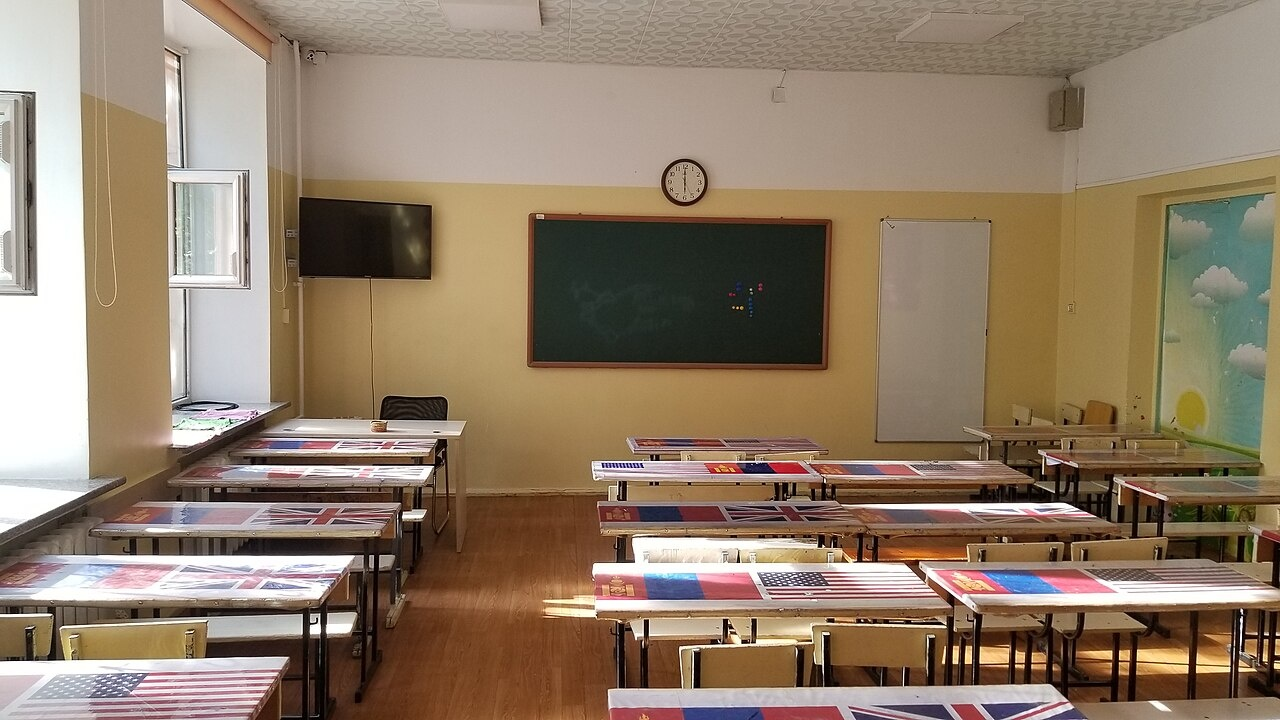seat: (88, 500, 402, 693), (178, 458, 438, 573), (1049, 478, 1148, 703), (1, 655, 291, 720), (958, 541, 1053, 685), (1072, 534, 1167, 635), (862, 682, 1087, 720), (638, 682, 862, 720), (810, 623, 936, 688), (59, 619, 209, 660), (630, 538, 853, 565), (680, 644, 803, 688), (1150, 447, 1261, 481), (1040, 447, 1150, 481), (1064, 423, 1165, 456), (964, 423, 1064, 456), (1071, 536, 1169, 562), (1196, 475, 1280, 504), (1113, 475, 1196, 504), (1073, 696, 1176, 718), (1176, 696, 1279, 718), (966, 542, 1064, 562), (380, 395, 448, 414), (1082, 400, 1116, 425)
